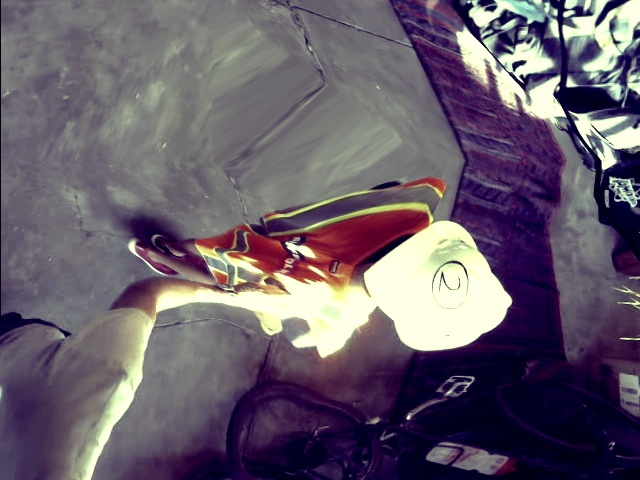two: (426, 255, 474, 311)
